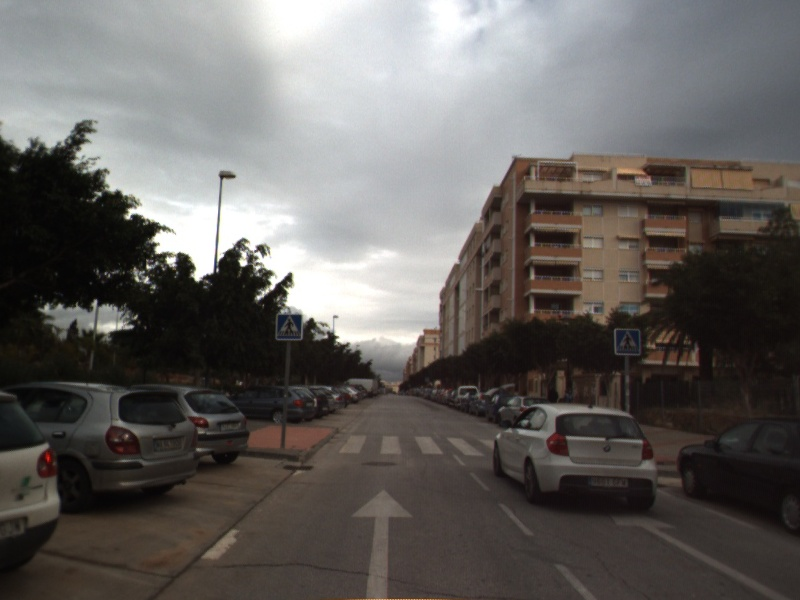STRAIGHT: (605, 509, 795, 600), (348, 486, 417, 600)
